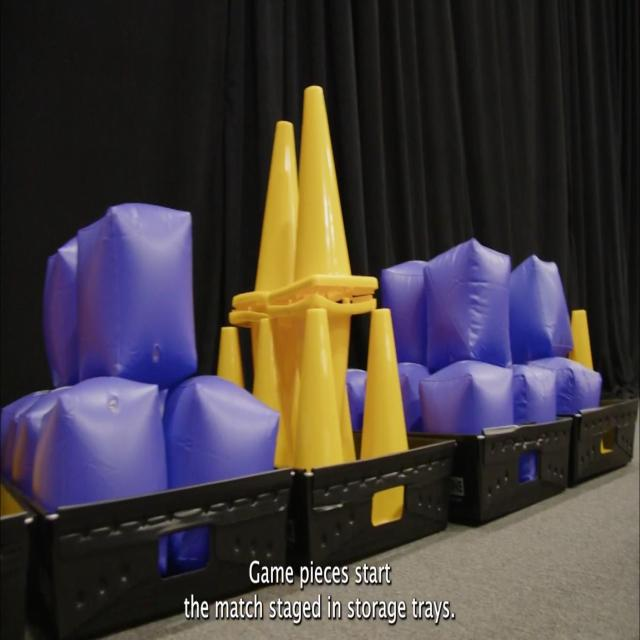frc_cone: (268, 86, 378, 318), (230, 120, 298, 324), (359, 308, 410, 466), (293, 308, 343, 469), (254, 320, 293, 466), (217, 328, 244, 392), (571, 308, 594, 370)
frc_cube: (76, 204, 198, 379), (35, 384, 168, 502), (168, 377, 280, 483), (424, 241, 513, 370), (509, 253, 572, 356), (420, 361, 513, 430), (44, 236, 78, 383), (380, 257, 425, 363), (530, 355, 601, 417), (508, 362, 556, 424), (10, 389, 36, 494), (397, 362, 426, 427), (346, 366, 368, 428)
